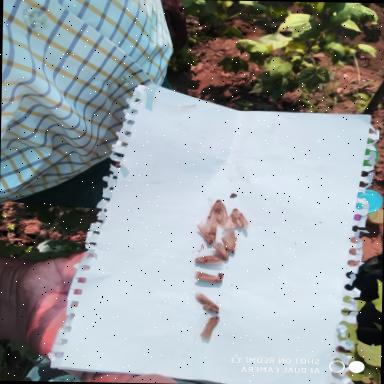abw: (198, 315, 224, 346), (193, 291, 221, 315), (226, 206, 251, 232), (207, 198, 228, 228), (219, 232, 242, 254), (196, 222, 218, 244), (194, 270, 226, 284), (194, 252, 225, 266), (211, 240, 229, 261)
